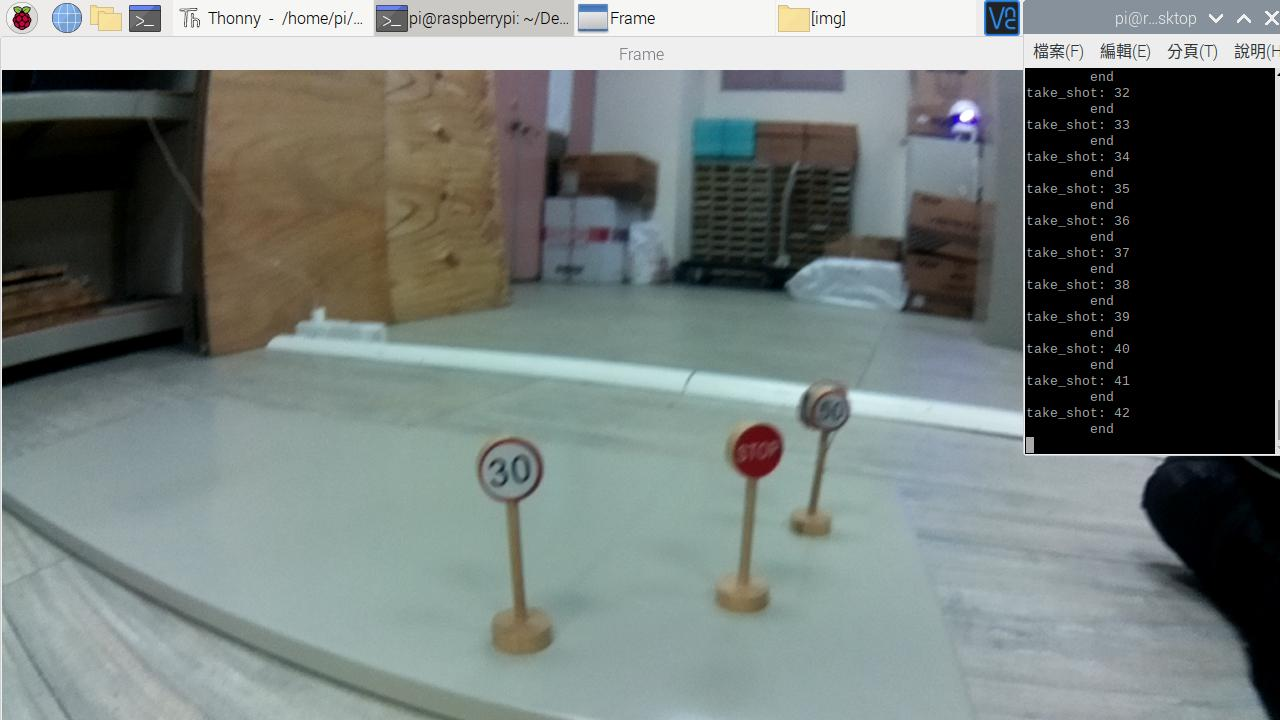Speed30: (473, 439, 563, 512)
